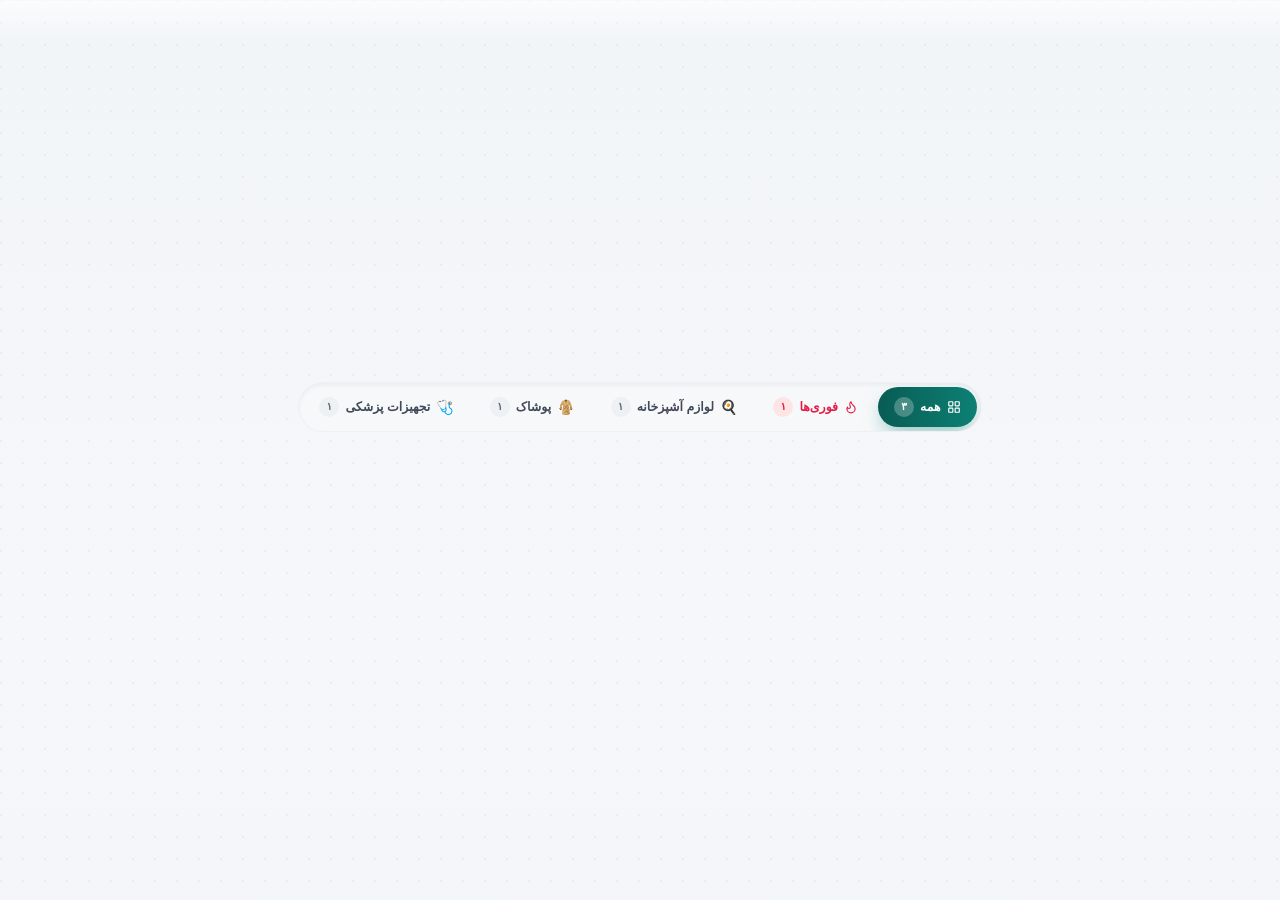
Scenario: KindnessSection — تختهٔ نیاز v2 › تب دسته فقط همان دسته را نشان می‌دهد و با «همه» برمی‌گردد
This screenshot has width=1280, height=900.
Step 1. Click the tab "🧥 پوشاک ۱" → (532, 407), box [474,387,591,427]
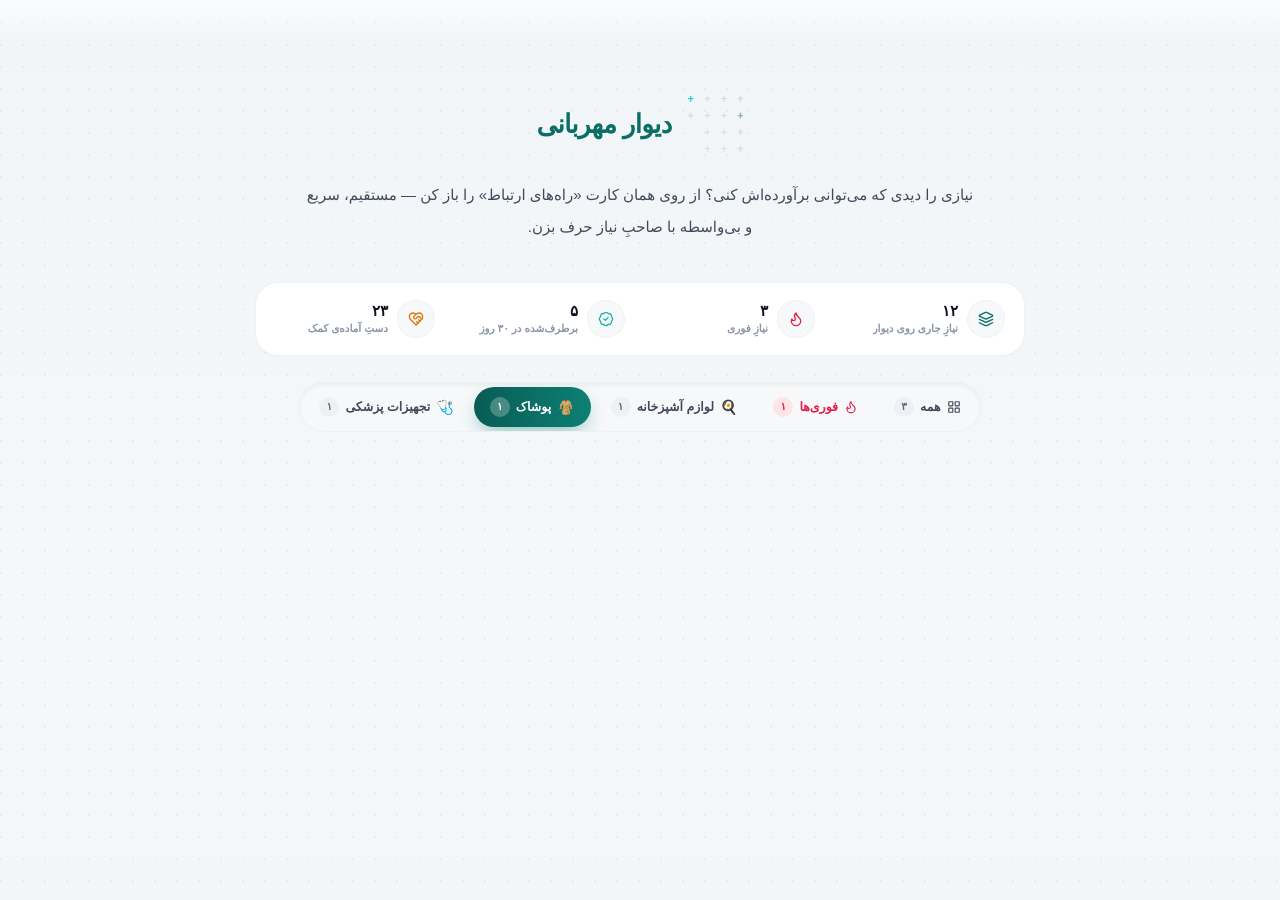
Expected: the text "یخچال دوقلو سالم" is not shown
Step 2. Click the tab "همه ۳" → (927, 407), box [878,387,977,427]
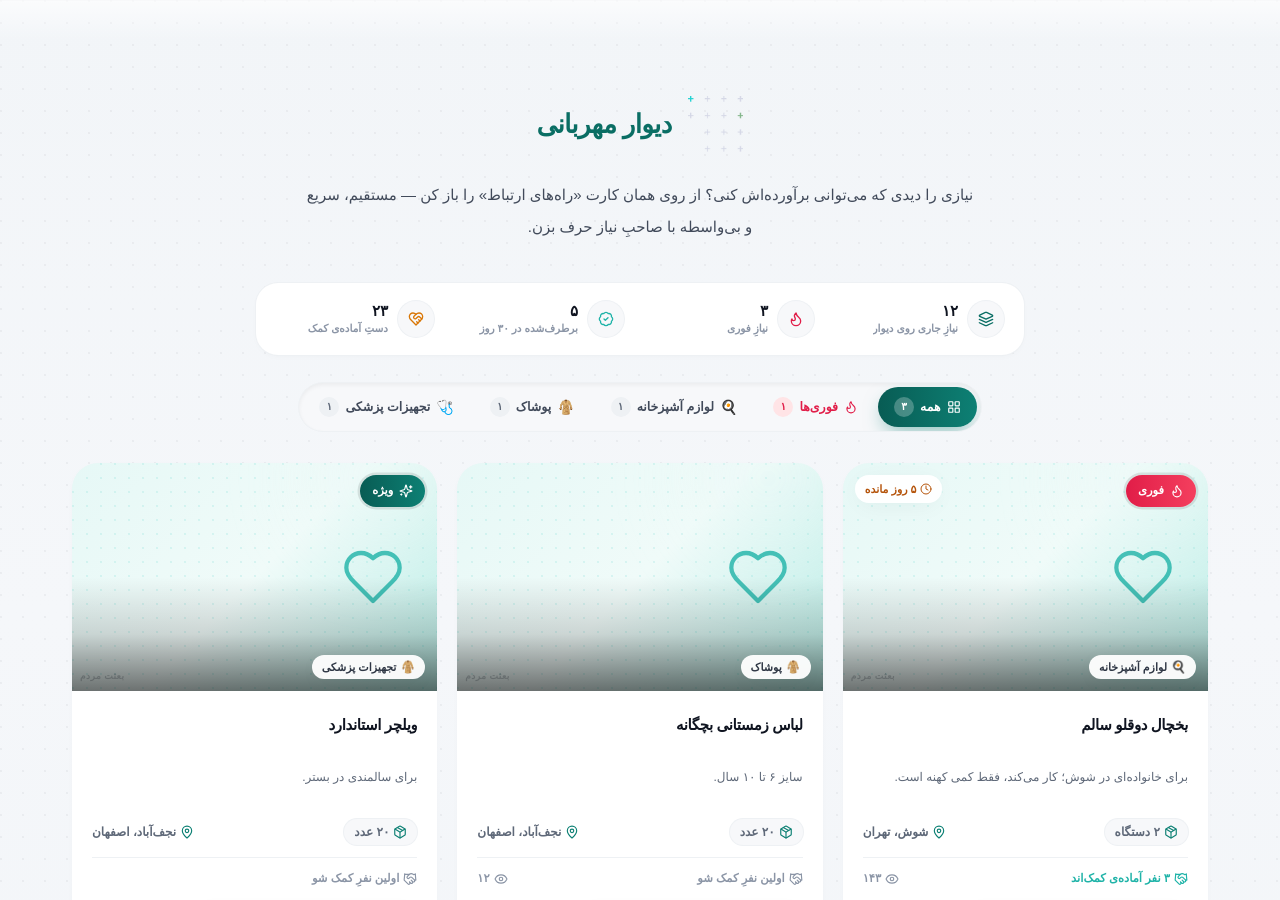
Expected: the link "یخچال دوقلو سالم" is shown, [1081,716,1188,733]
